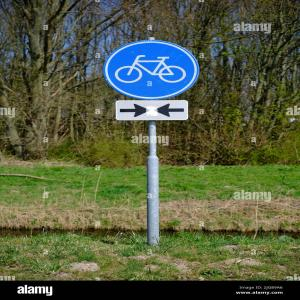CYCLES CROSSING: (101, 35, 210, 103)
